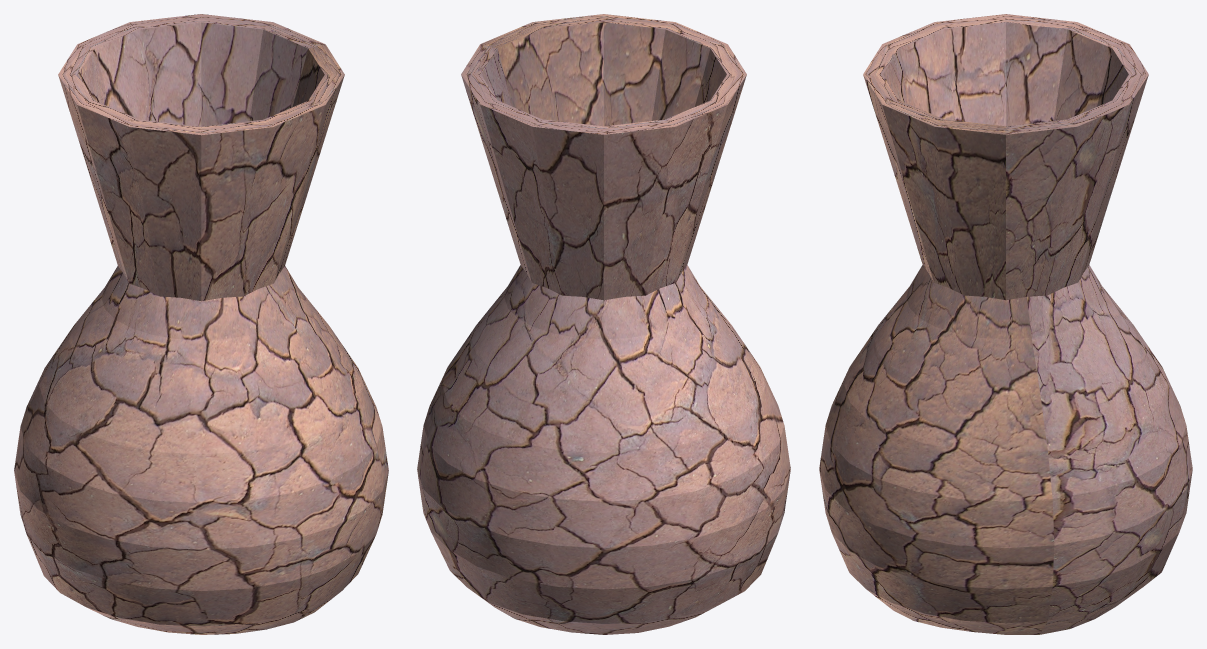
The model's file is vase1.fbx.
The picture shows the model from 3 angles, left to right: view 1: azimuth 30°, elevation 25°; view 2: azimuth 150°, elevation 25°; view 3: azimuth 270°, elevation 25°; orthographic projection.
Parts seen in each view (by area): view 1: pPipe2; view 2: pPipe2; view 3: pPipe2.
Part boxes in pixels (left/top/right/bottom): pPipe2: left=14, top=14, right=388, bottom=634; pPipe2: left=417, top=14, right=790, bottom=634; pPipe2: left=819, top=14, right=1192, bottom=634.
Bounding box in the file's own units: 80.74 × 124 × 80.74.
Materials: 1 (1 with a texture image).
